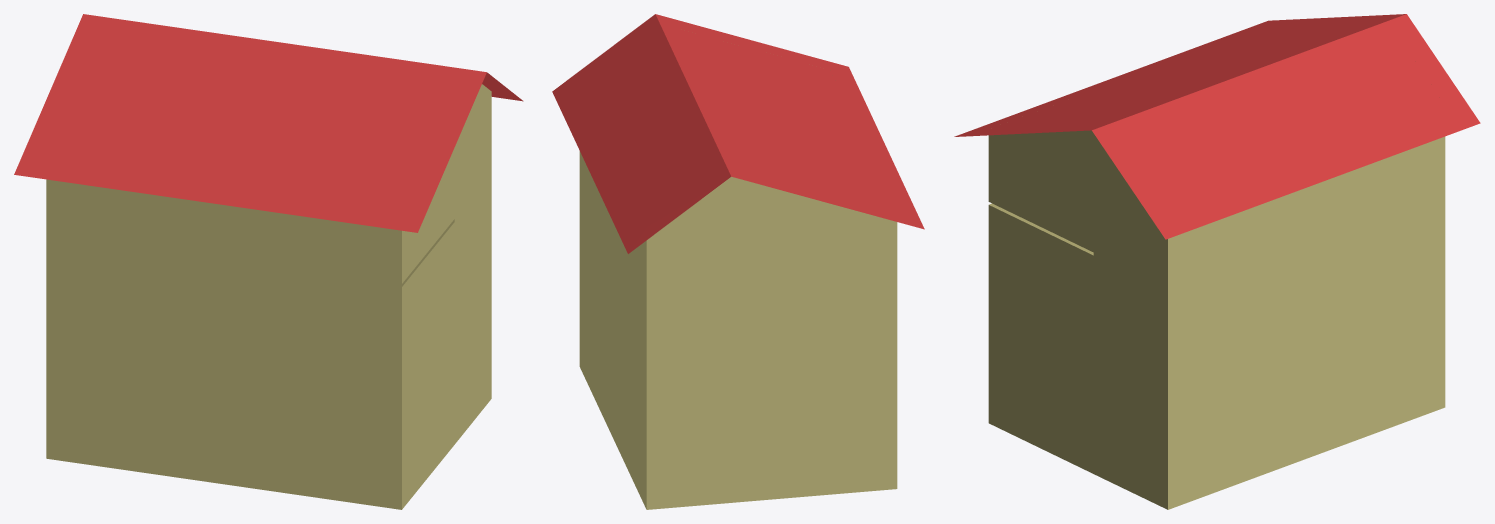
3 renders of one model, left to right at view 1: azimuth 30°, elevation 25°; view 2: azimuth 150°, elevation 25°; view 3: azimuth 270°, elevation 25°, orthographic. The views are drawn at different scales.
Bounding box in the file's own units: 15.53 × 15.8 × 11.86.
